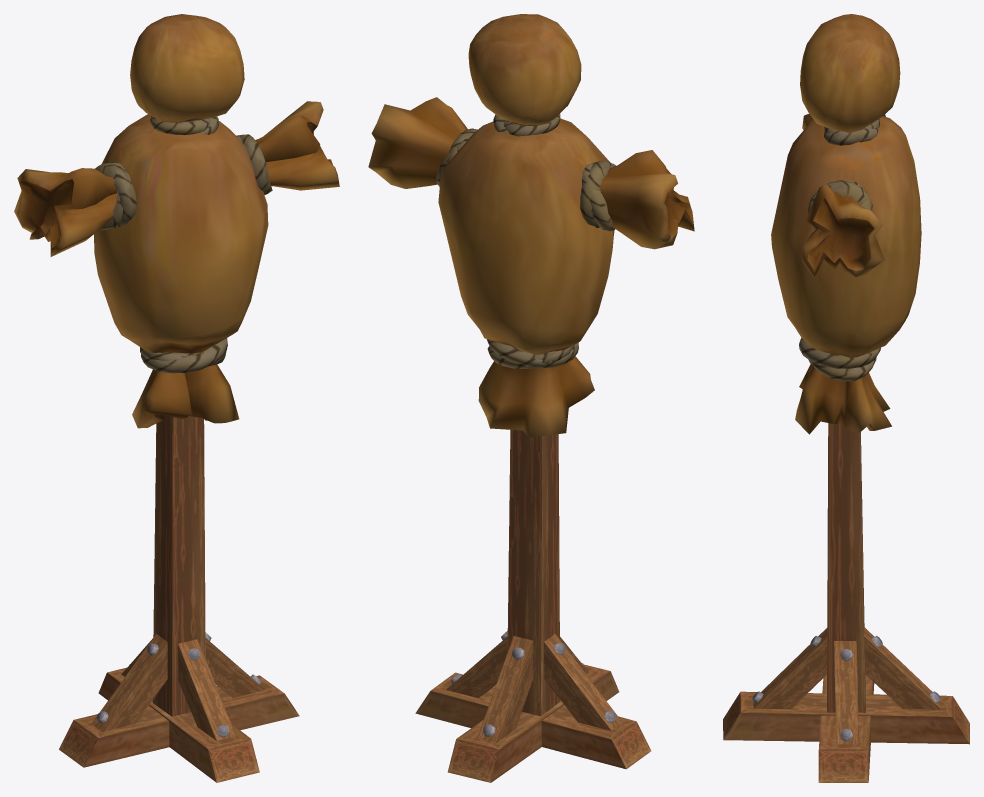
File: prop-qp-dummy.glb
3 views of the same model, side by side, from view 1: azimuth 30°, elevation 25°; view 2: azimuth 150°, elevation 25°; view 3: azimuth 270°, elevation 25° (orthographic).
Parts seen in each view (by area): view 1: Cube_223; view 2: Cube_223; view 3: Cube_223.
Boxes of the visible parts, box(x1,y1,x2,y2) form: Cube_223: box(14, 14, 339, 782); Cube_223: box(368, 14, 694, 782); Cube_223: box(723, 14, 969, 782).
Size of the model in its own units: 0.8085 by 1.86 by 0.5846.
3 materials, 3 textured.
